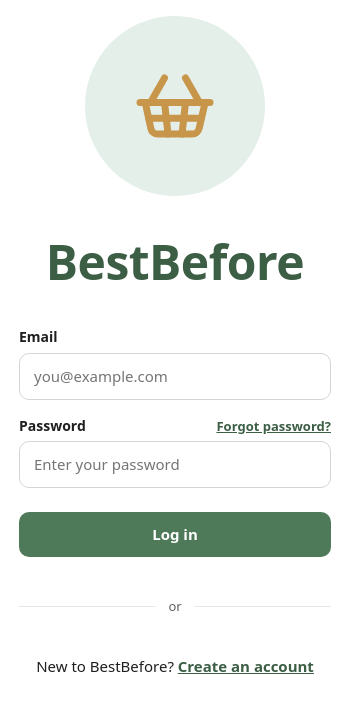
Test: Login › shows the mock error response
This screenshot has width=351, height=725.
In the field labelled "Email": point(175, 376) [19,353,331,400], type "wrong@example.com"
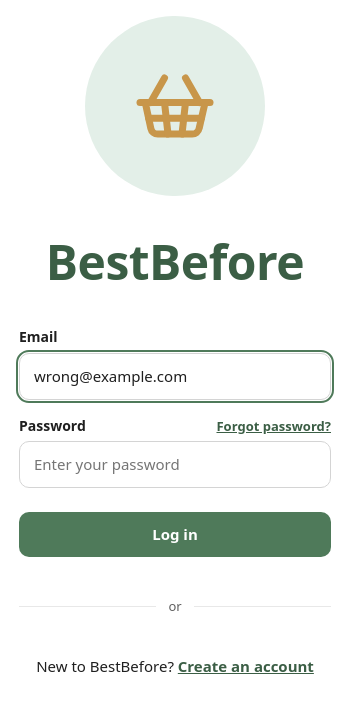
In the password field labelled "Password": point(175, 465) [19,441,331,488], type "password123"
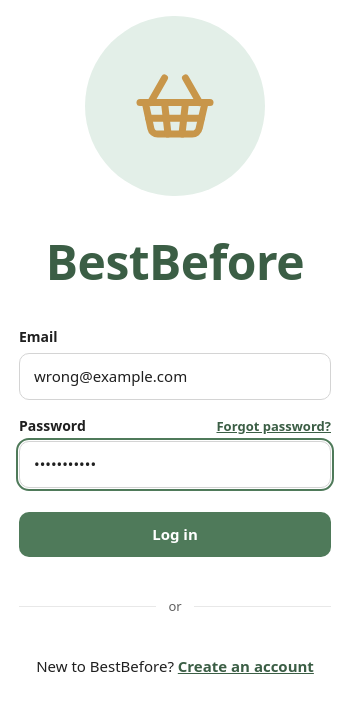
Click the button "Log in": point(175, 535) [19,512,331,557]
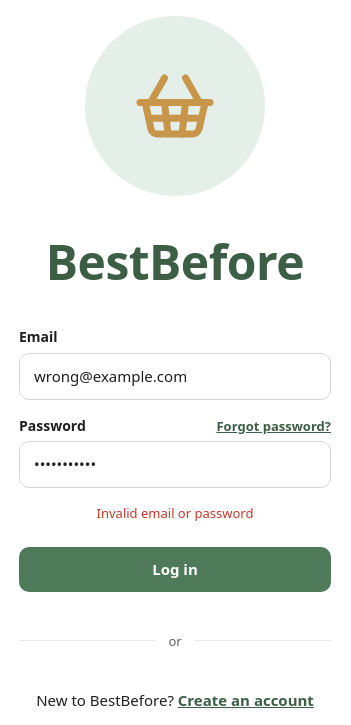
Check: the button "Log in" is enabled, box [19,547,331,592]
Check: the message reads "Invalid email or password", box [97,504,253,522]
